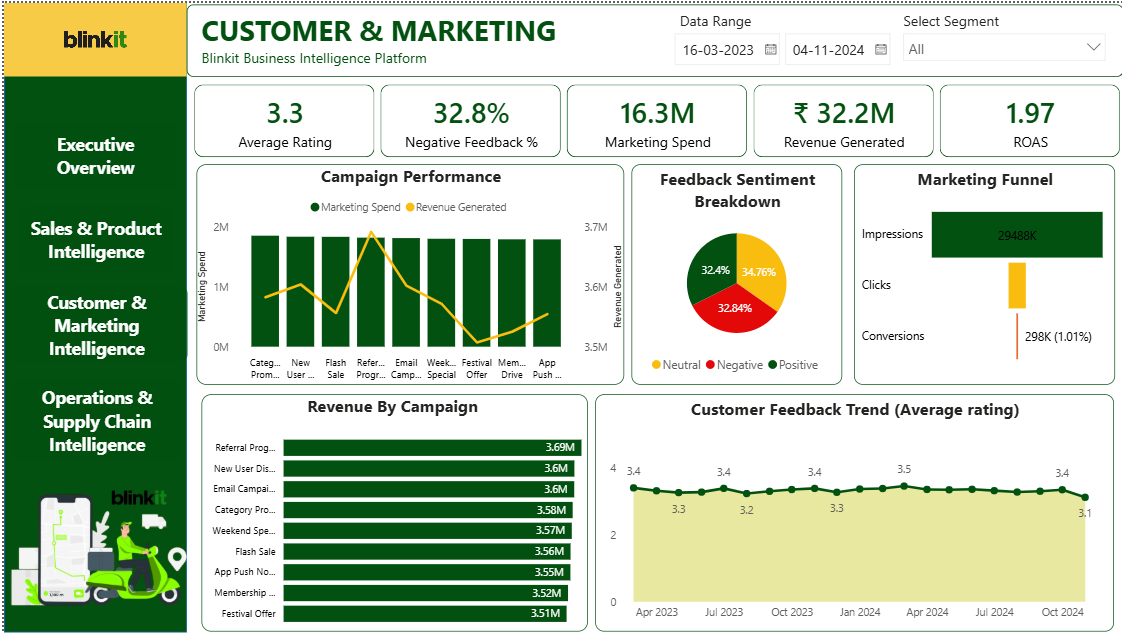

This screenshot's page, from the dashboard's own definition file:
{"tool":"powerbi","page":{"name":"Customer & Market Intelligence","canvas":[1280,720],"ordinal":2},"visuals":[{"type":"shape","box":[0,0,209.1,719.5],"z":0},{"type":"image","box":[0,0,208.8,83.8],"z":1000},{"type":"shape","box":[208.8,1.2,1071.2,83.2],"z":2000},{"type":"cardVisual","fields":{"Data":["Measuress.Average Rating","Measuress.Negative Feedback %","Measuress.Marketing Spend","Measuress.Revenue Generated","Measuress.ROAS"]},"box":[214,90.5,1066.3,89.3],"z":3000},{"type":"actionButton","box":[11.2,136.2,186.2,77.5],"z":4000},{"type":"image","box":[1.2,525,208.8,195],"z":5000},{"type":"textbox","box":[226.2,4.9,507.5,74.6],"z":6000},{"type":"textbox","box":[767.2,3.8,108.8,37.5],"z":7000},{"type":"textbox","box":[1022.2,3.8,186.2,37.5],"z":8000},{"type":"slicer","fields":{"Values":["public customers.customer_segment"]},"box":[1022.2,30,241.2,45],"z":9000},{"type":"slicer","fields":{"Values":["public orders.order_date"]},"box":[758.5,30,263.8,50],"z":10000},{"type":"lineClusteredColumnComboChart","title":"Campaign Performance","fields":{"Y":["Measuress.Marketing Spend"],"Y2":["Measuress.Revenue Generated"],"Category":["public marketing_performance.campaign_name"]},"box":[220.1,184.6,489.1,251.9],"z":11000},{"type":"pieChart","title":"Feedback Sentiment Breakdown","fields":{"Category":["public customer_feedback.sentiment"],"Y":["CountNonNull(public customer_feedback.feedback_id)"]},"box":[717.8,184.6,240.9,251.9],"z":12000},{"type":"clusteredBarChart","title":"Revenue By Campaign","fields":{"Category":["public marketing_performance.campaign_name"],"Y":["Measuress.Revenue Generated"]},"box":[226.2,447.6,441.4,271.5],"z":13000},{"type":"funnel","title":"Marketing Funnel","fields":{"Y":["Sum(public marketing_performance.impressions)","Sum(public marketing_performance.clicks)","Sum(public marketing_performance.conversions)"]},"box":[970.9,184.6,298.4,251.9],"z":14000},{"type":"areaChart","title":"Customer Feedback Trend (Average rating)","fields":{"Y":["Measuress.Average Rating"],"Category":["public customer_feedback.feedback_date.Variation.Date Hierarchy.Year","public customer_feedback.feedback_date.Variation.Date Hierarchy.Month"]},"box":[676.2,447.6,593.1,271.5],"z":15000},{"type":"actionButton","box":[17.5,231.2,176.2,77.5],"z":16000},{"type":"actionButton","box":[1.2,322.8,209.1,88],"z":17000},{"type":"actionButton","box":[8.6,430.4,195.7,94.2],"z":18000}]}

Visuals, with their boxes in screenshot pixels (x1, y1, x2, y2), scaled from the page's 1280x720 canvas onto the 1122x633 screenshot:
shape: crop(0, 0, 183, 632)
image: crop(0, 0, 183, 74)
shape: crop(183, 1, 1121, 74)
cardVisual - Measuress.Average Rating x Measuress.Negative Feedback %: crop(188, 80, 1121, 158)
actionButton: crop(10, 120, 173, 188)
image: crop(1, 462, 184, 632)
textbox: crop(198, 4, 643, 70)
textbox: crop(672, 3, 768, 36)
textbox: crop(896, 3, 1059, 36)
slicer - public customers.customer_segment: crop(896, 26, 1107, 66)
slicer - public orders.order_date: crop(665, 26, 896, 70)
"Campaign Performance" lineClusteredColumnComboChart: crop(193, 162, 622, 384)
"Feedback Sentiment Breakdown" pieChart: crop(629, 162, 840, 384)
"Revenue By Campaign" clusteredBarChart: crop(198, 394, 585, 632)
"Marketing Funnel" funnel: crop(851, 162, 1113, 384)
"Customer Feedback Trend (Average rating)" areaChart: crop(593, 394, 1113, 632)
actionButton: crop(15, 203, 170, 271)
actionButton: crop(1, 284, 184, 361)
actionButton: crop(8, 378, 179, 461)
